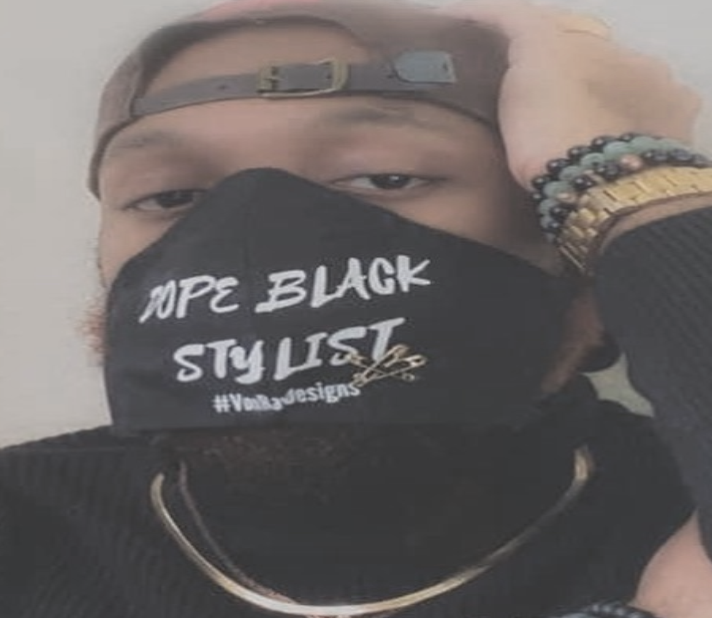mask_weared_incorrect: (59, 0, 637, 504)
